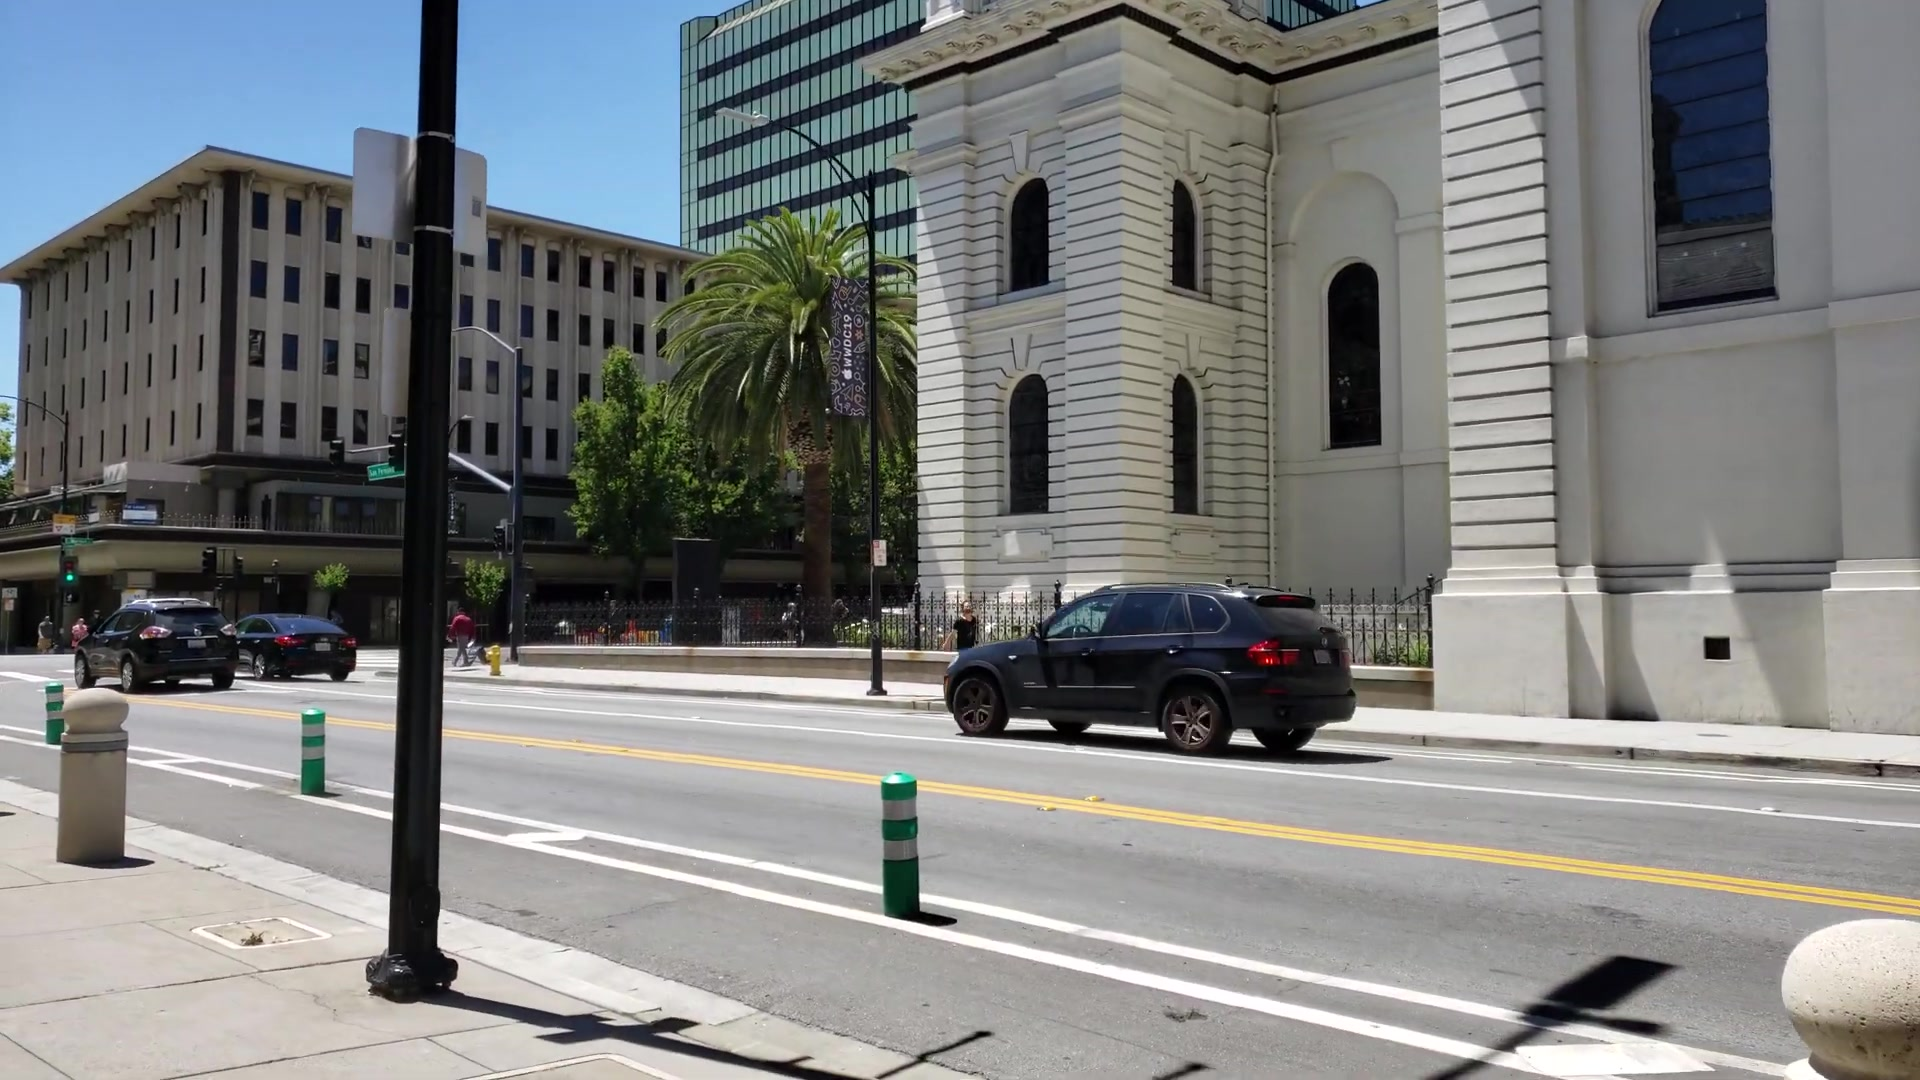vehicle_away: (945, 584, 1357, 761), (76, 600, 239, 691), (233, 615, 356, 686)
